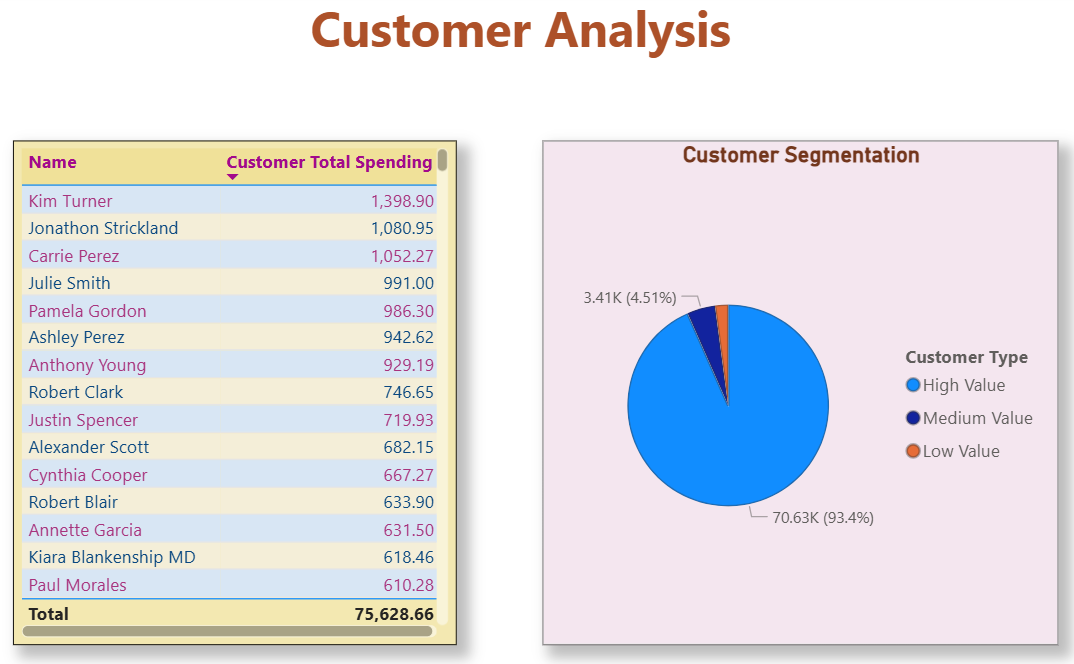

This screenshot's page, from the dashboard's own definition file:
{"tool":"powerbi","page":{"name":"Customer Analysis","canvas":[1280,720],"ordinal":2},"visuals":[{"type":"tableEx","fields":{"Values":["onlinebookstore customers.Name","onlinebookstore books.Customer Total Spending"]},"box":[245.6,136.8,339.7,386.8],"z":0},{"type":"pieChart","title":"Customer Segmentation","fields":{"Y":["onlinebookstore books.Customer Total Spending"],"Category":["onlinebookstore books.Customer Type"]},"box":[651.5,136.8,395.6,386.8],"z":1000},{"type":"textbox","box":[469.1,19.1,341.2,73.5],"z":2000}]}

Visuals, with their boxes on the page's 1280x720 design canvas (x1, y1, x2, y2). These are canvas units, not pixel positions in the 1074x664 screenshot, which may show the page scaled, cropped or inside an application window:
tableEx - onlinebookstore customers.Name x onlinebookstore books.Customer Total Spending: (x1=246, y1=137, x2=585, y2=524)
"Customer Segmentation" pieChart: (x1=652, y1=137, x2=1047, y2=524)
textbox: (x1=469, y1=19, x2=810, y2=93)
